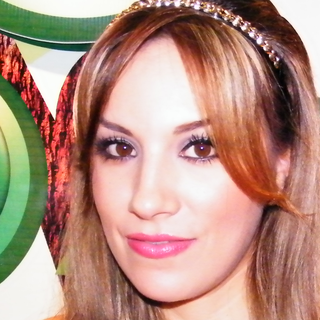eye: (175, 135, 222, 163), (95, 135, 138, 162)
